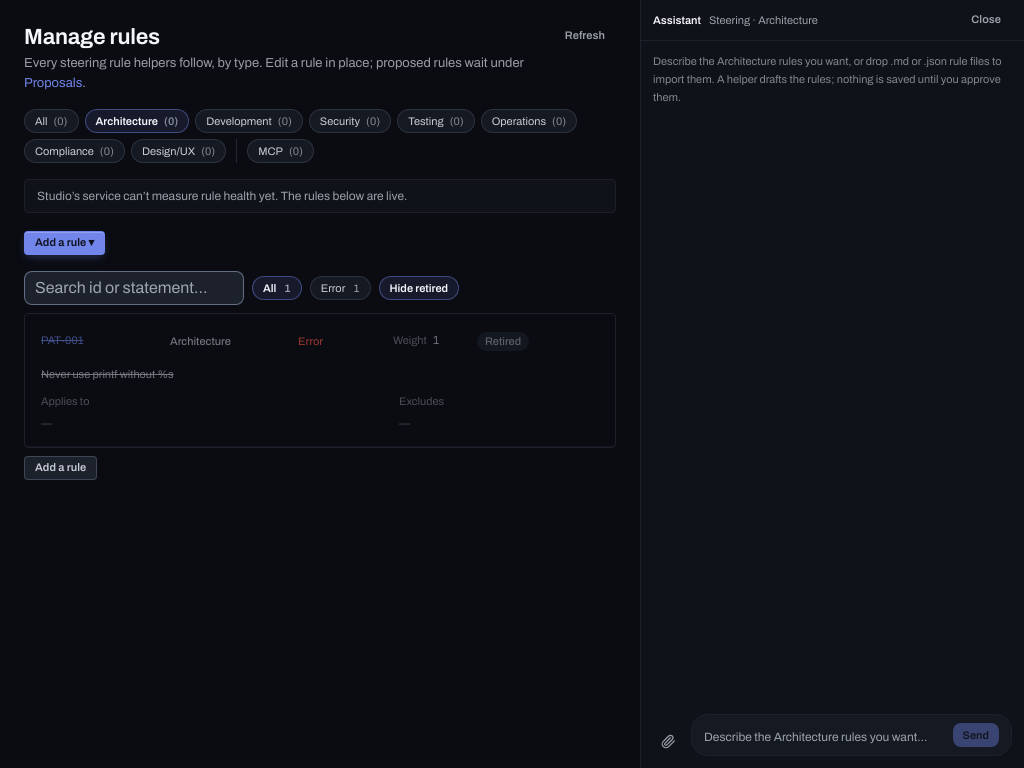
SteeringPage — the retire kill switch (opened from the drawer) › offers neither retire nor edit on an already-retired rule
Click the button with test id "steering-grid-id": click(92, 340) [35, 328, 149, 352]
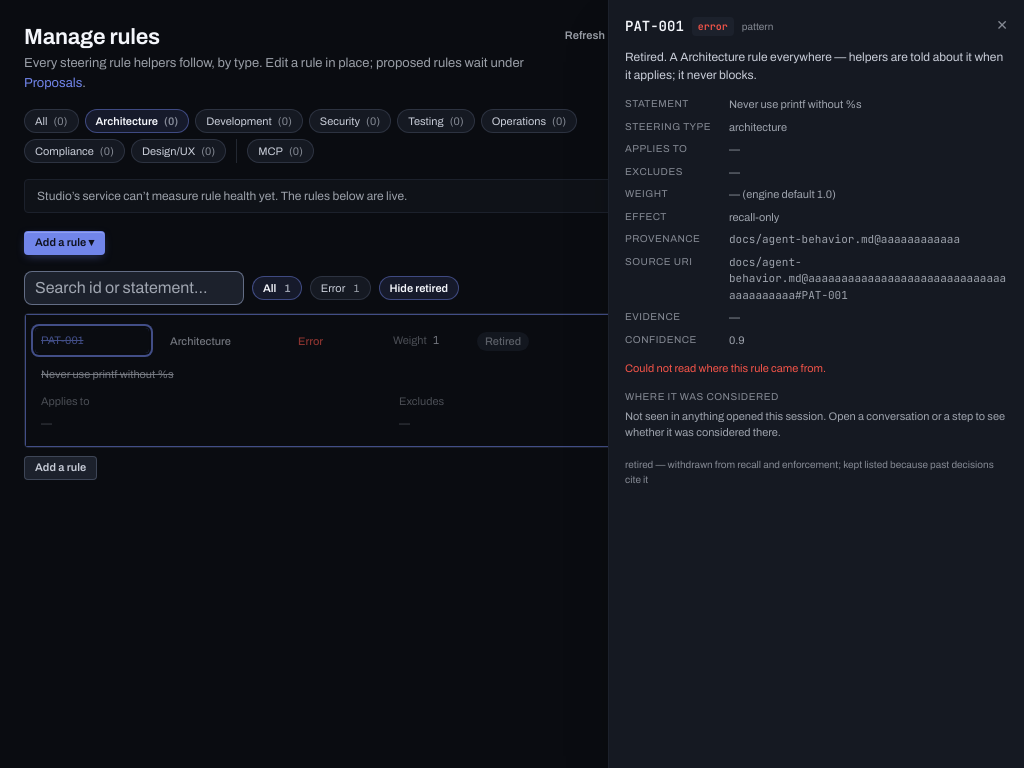
Now the element with test id "steering-rule-drawer" is shown, box [608, 0, 1023, 767]
Now the text with test id "steering-rule-retired-note" shows "withdrawn from recall", box [625, 458, 994, 484]
